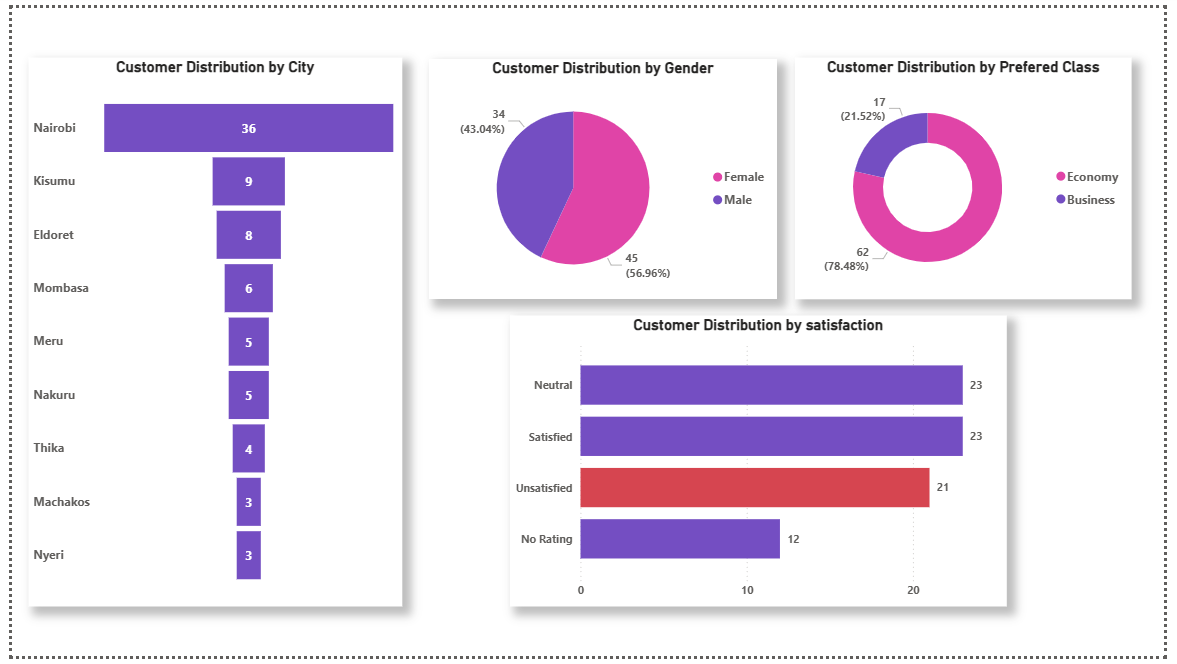

What the dashboard file says about the page in this screenshot:
{"tool":"powerbi","page":{"name":"Passenger_ins","canvas":[1280,720],"ordinal":4},"visuals":[{"type":"treemap","title":"Total No of customers by city","fields":{"Group":["safari_connect v_passenger_insights.passenger_city"],"Values":["Sum(safari_connect v_passenger_insights.no_of_customers)"]},"box":[18,55.6,415,534.3],"z":0},{"type":"pieChart","fields":{"Category":["safari_connect v_passenger_insights.passenger_gender"],"Y":["Sum(safari_connect v_passenger_insights.no_of_customers)"]},"box":[460.8,55.6,415,268],"z":1000},{"type":"donutChart","fields":{"Y":["Sum(safari_connect v_passenger_insights.no_of_customers)"],"Category":["safari_connect v_passenger_insights.preffered_class"]},"box":[851.3,55.6,415,268],"z":2000},{"type":"clusteredColumnChart","fields":{"Category":["safari_connect v_passenger_insights.satisfaction"],"Y":["Sum(safari_connect v_passenger_insights.no_of_customers)"]},"box":[771.3,372.6,424.9,276.2],"z":3000},{"type":"qnaVisual","box":[18,570,415,150],"z":4000}]}

Visuals, with their boxes in screenshot pixels (x1, y1, x2, y2), scaled from the page's 1280x720 canvas onto the 1177x664 screenshot:
"Total No of customers by city" treemap: bbox=[17, 51, 398, 544]
pieChart - safari_connect v_passenger_insights.passenger_gender x Sum(safari_connect v_passenger_insights.no_of_customers): bbox=[424, 51, 805, 298]
donutChart - Sum(safari_connect v_passenger_insights.no_of_customers) x safari_connect v_passenger_insights.preffered_class: bbox=[783, 51, 1164, 298]
clusteredColumnChart - safari_connect v_passenger_insights.satisfaction x Sum(safari_connect v_passenger_insights.no_of_customers): bbox=[709, 344, 1100, 598]
qnaVisual: bbox=[17, 526, 398, 663]
